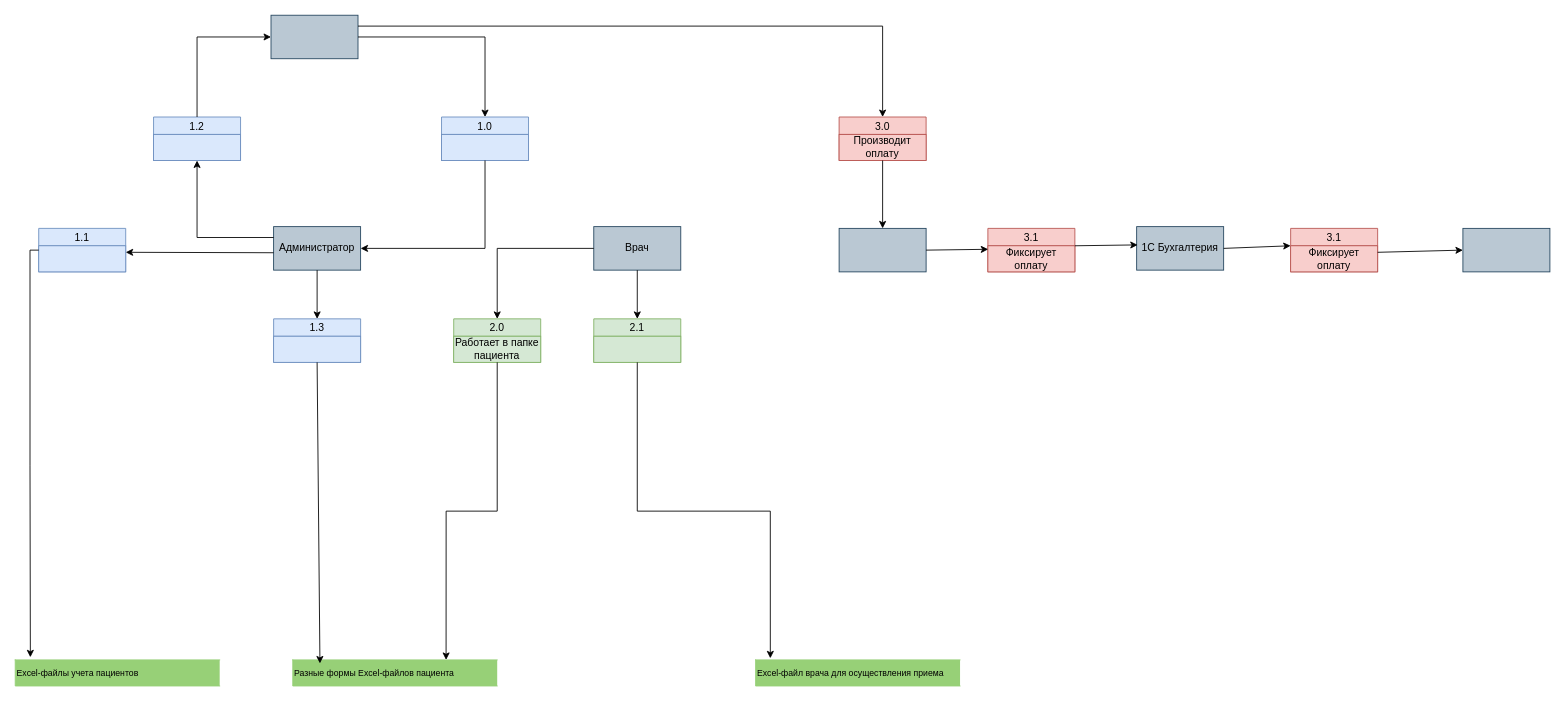
This 1565x701 diagram has some shape labels left out. The shapes that lost their labels are listed below. From the top down, each one's centre as x and y in pixels, then its label:
At (314,36): "Пациент".
At (197,147): "Заключает соглашения".
At (485,147): "Называет ФИО".
At (82,258): "Ищет пациента".
At (882,250): "Кассир".
At (1506,250): "ККМ".
At (317,348): "Сохраняет документы".
At (637,348): "Вносит заметки по пациенту".
